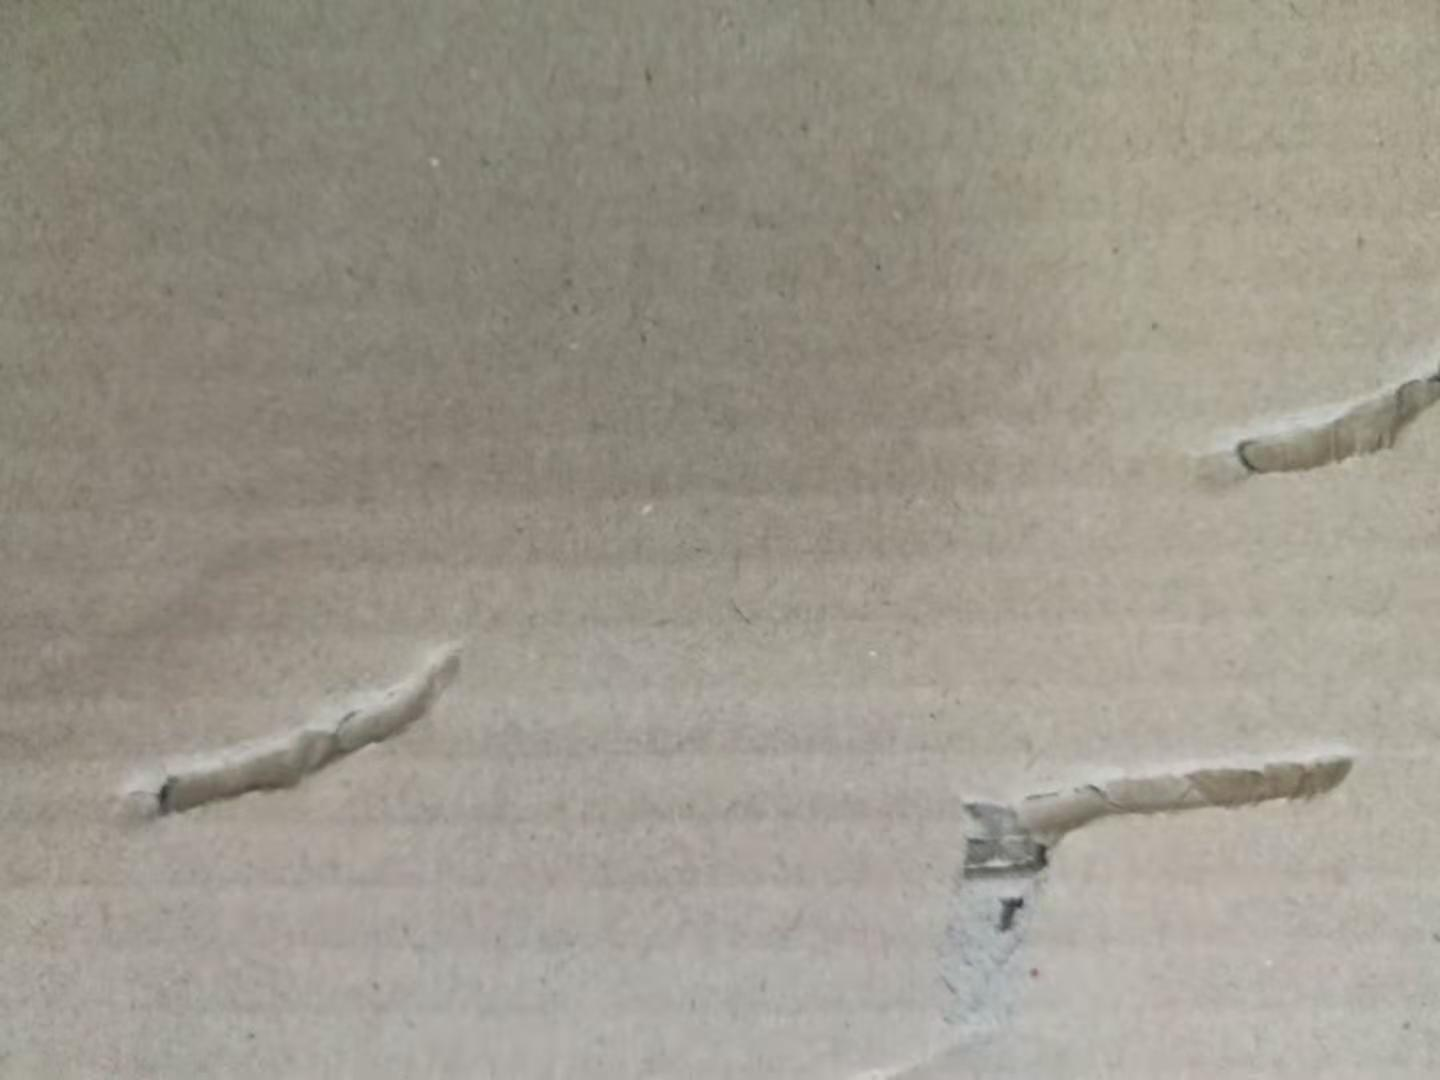defect: (840, 722, 1377, 1080), (96, 606, 503, 847), (1171, 334, 1440, 531)
